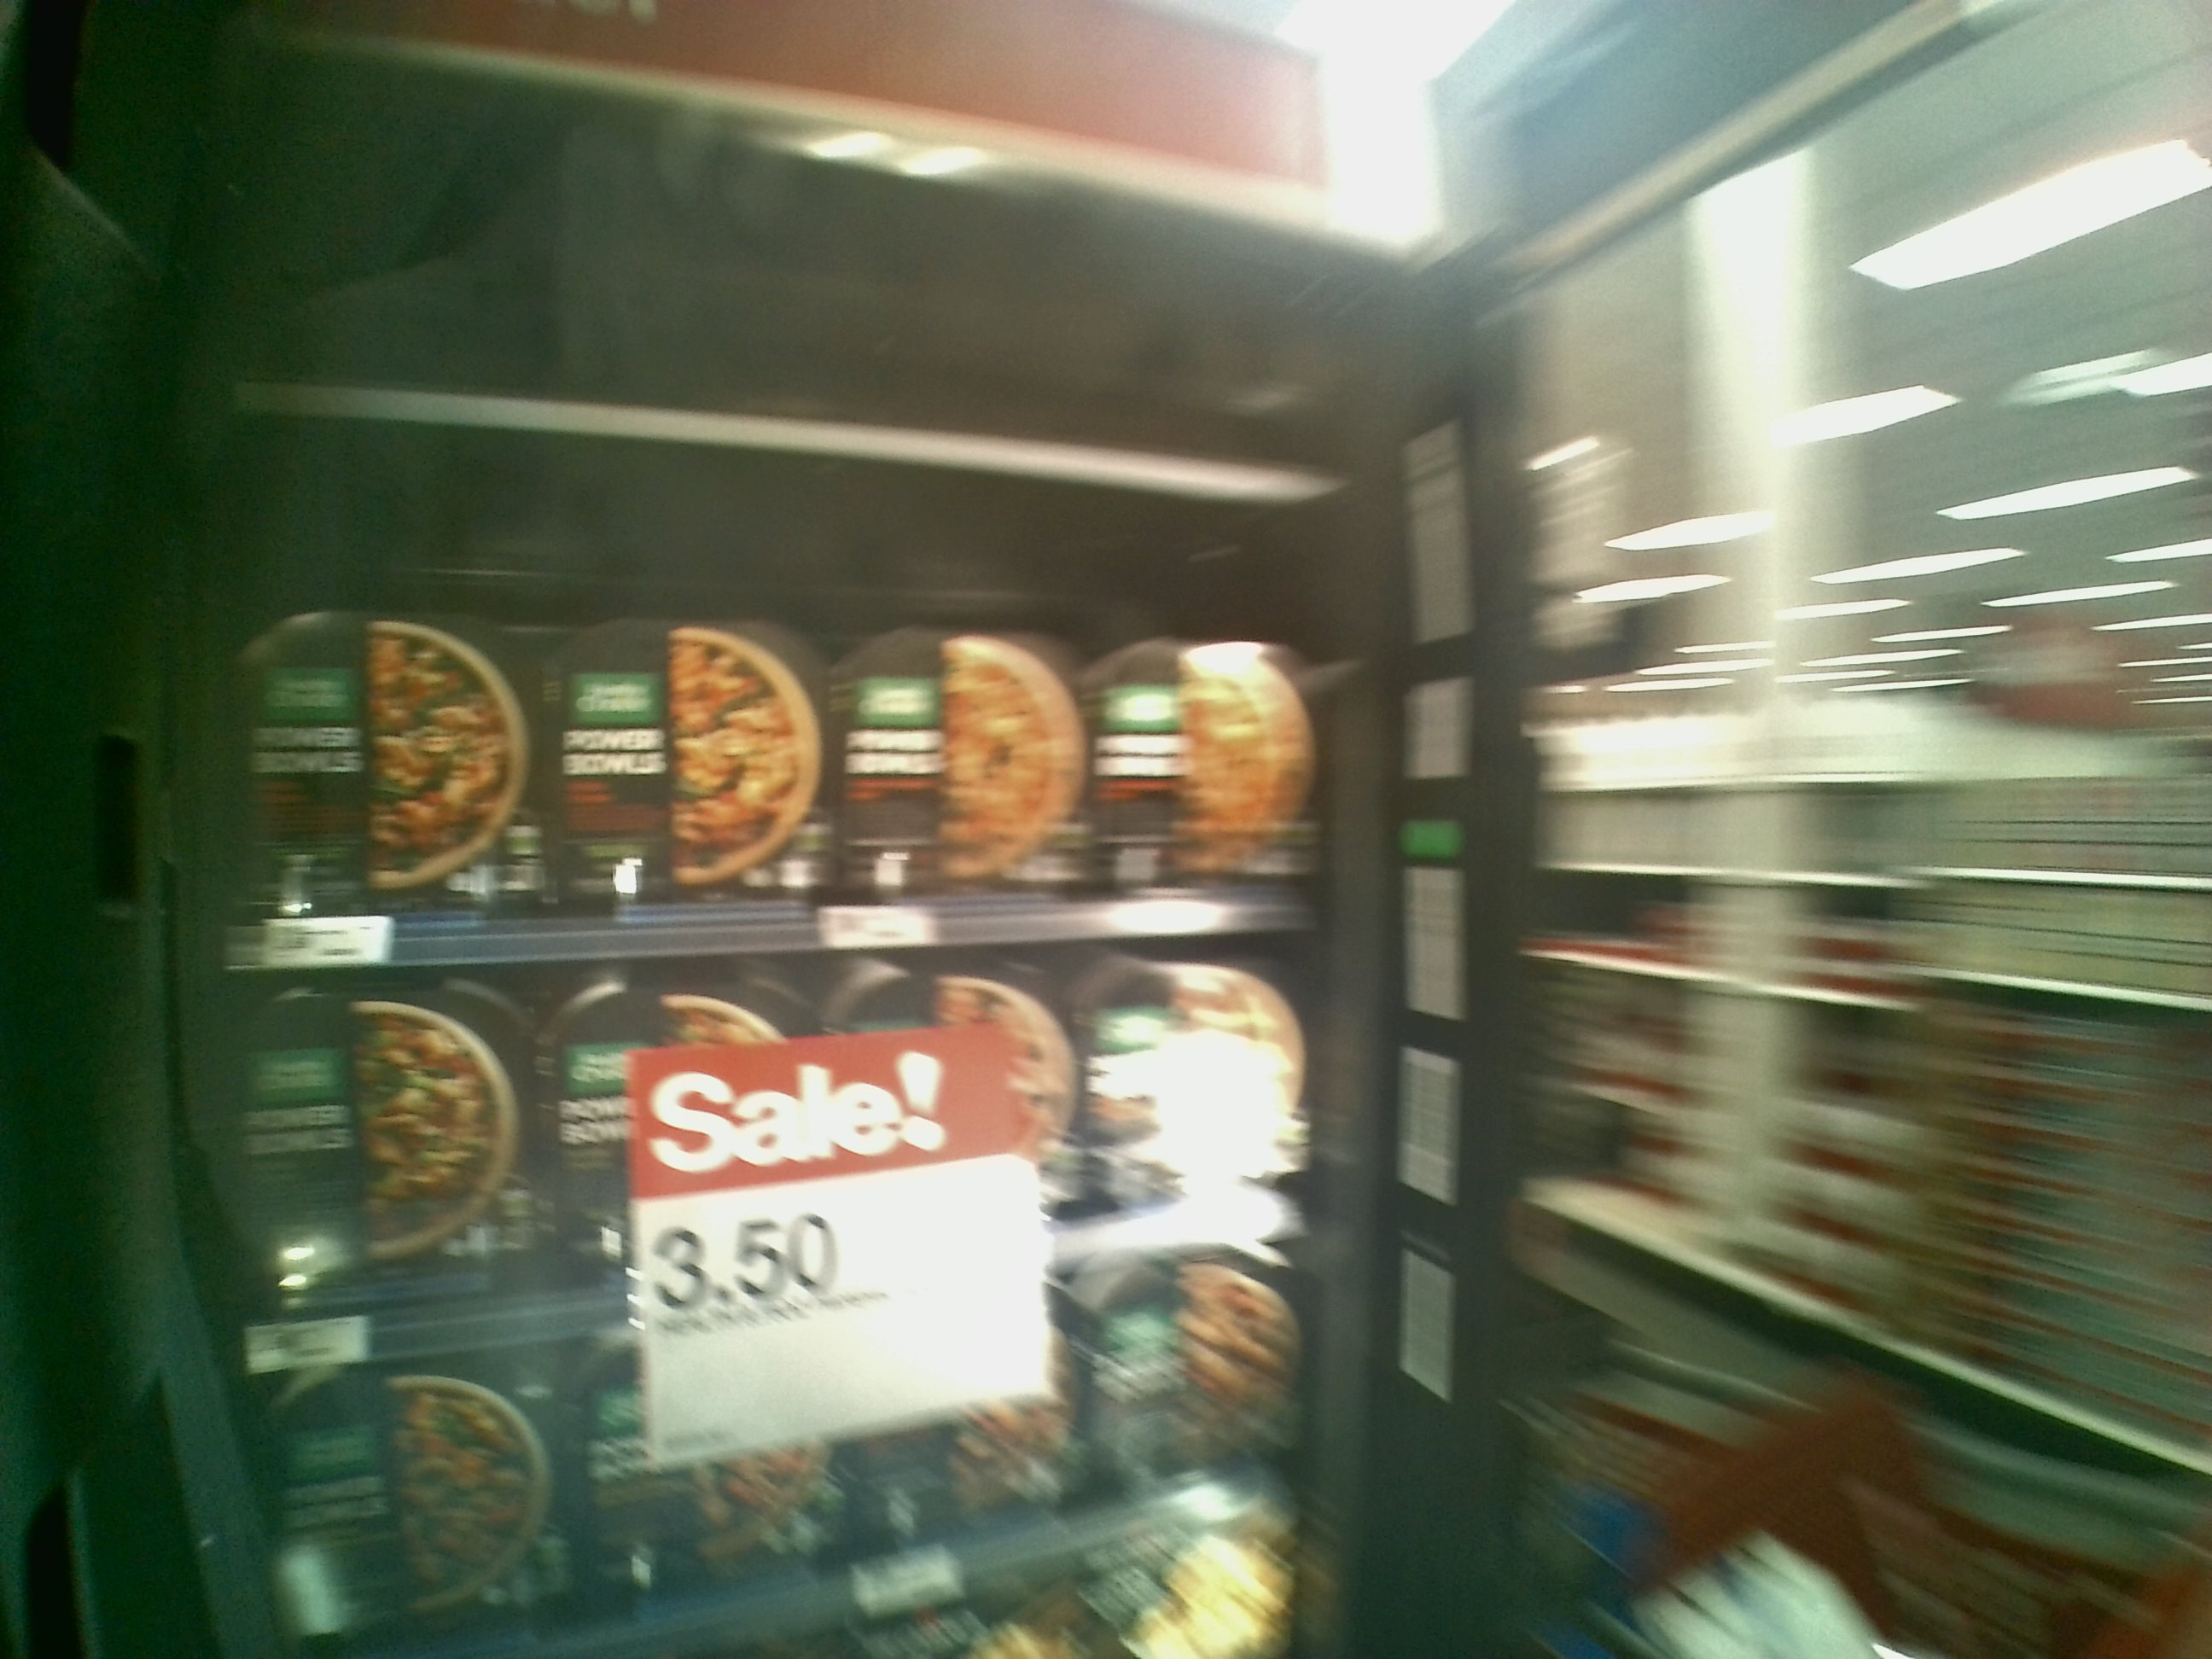shelf: (200, 413, 1357, 958)
